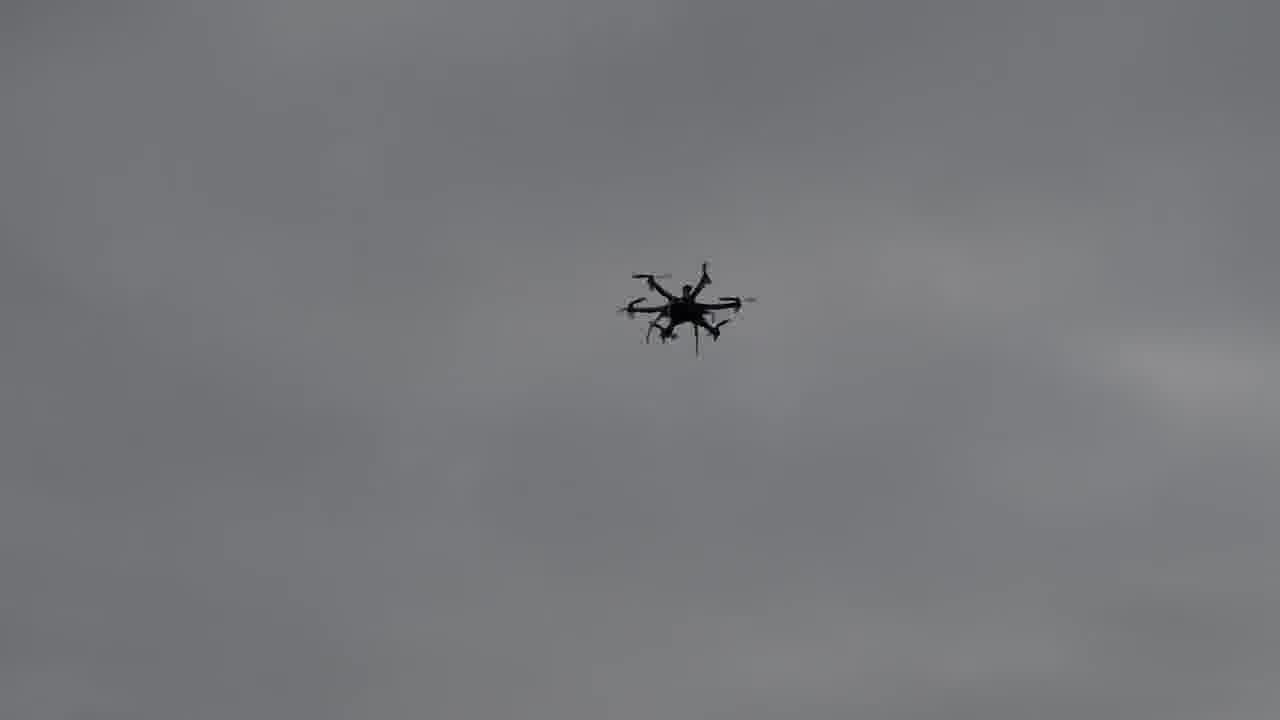Drone: (610, 254, 766, 360)
